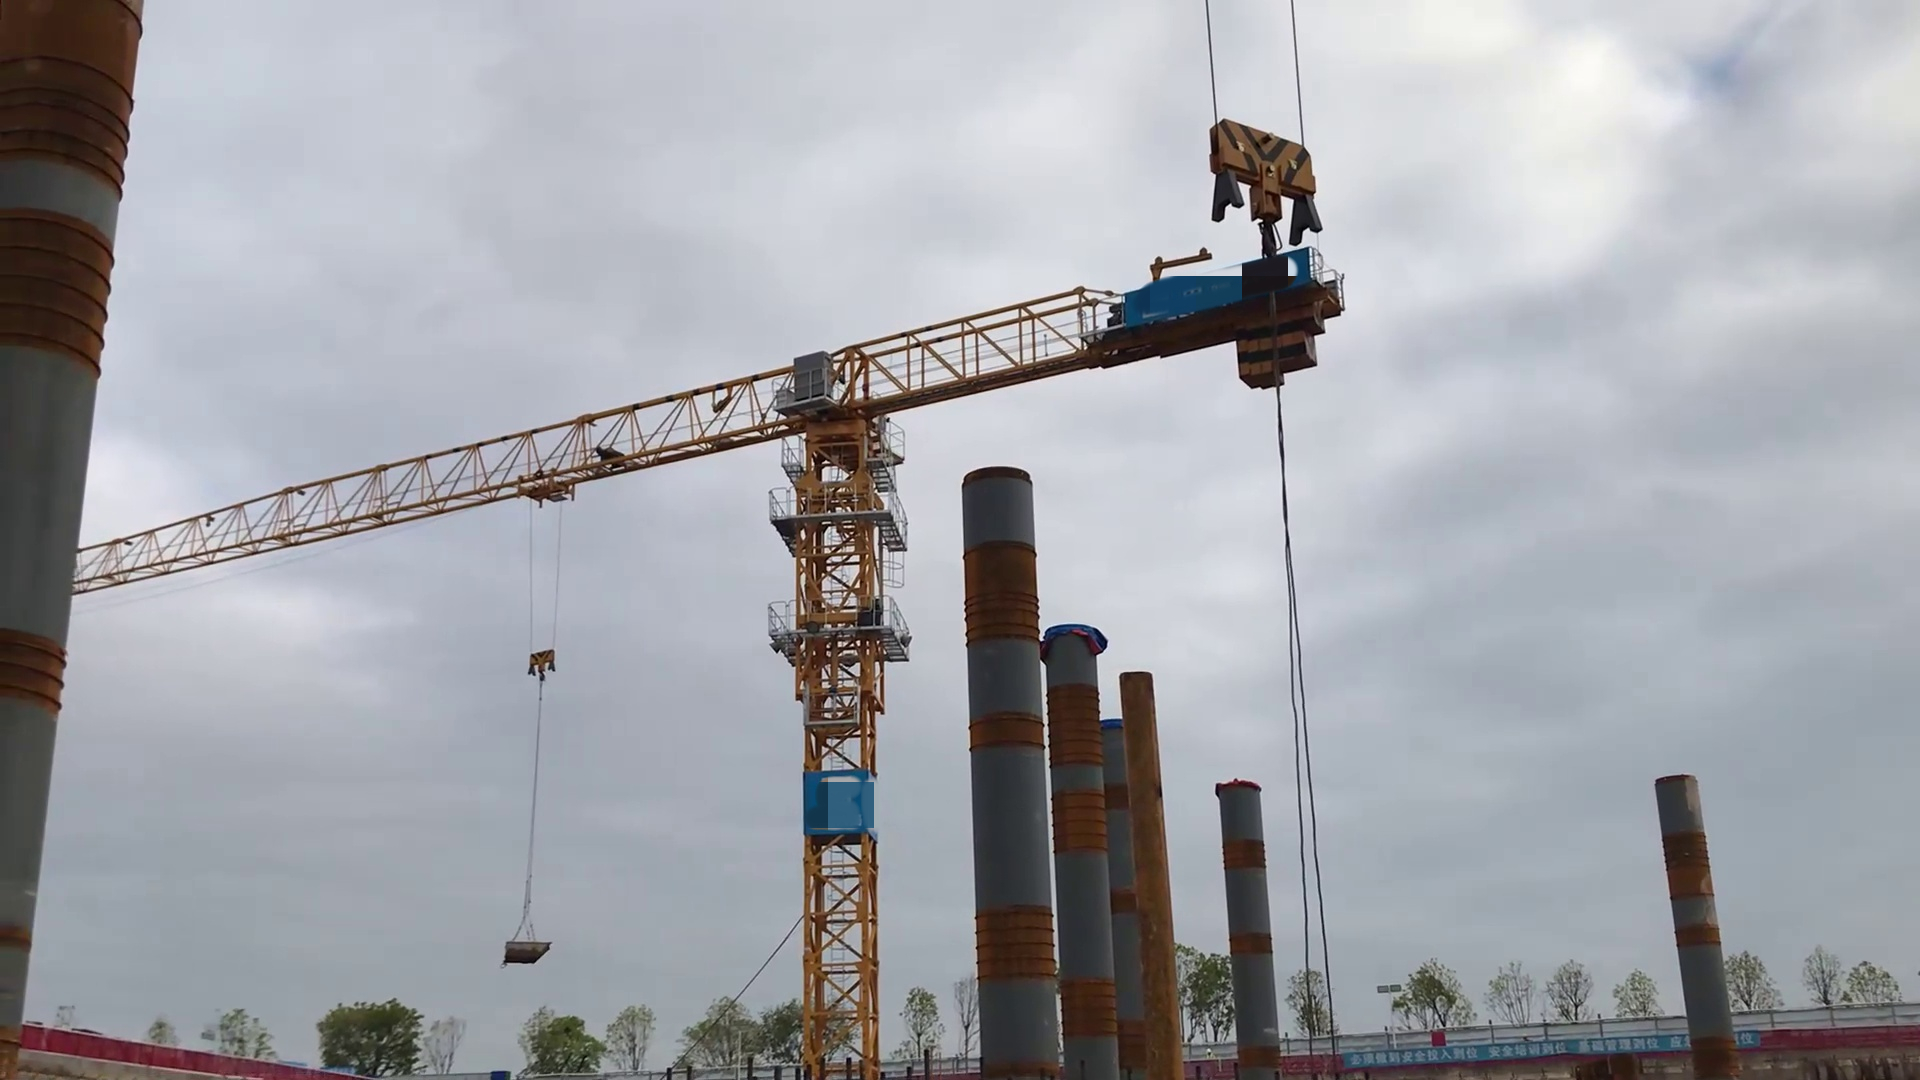hook: (1196, 112, 1329, 251), (525, 645, 560, 684)
slogan: (1342, 1031, 1760, 1069)
